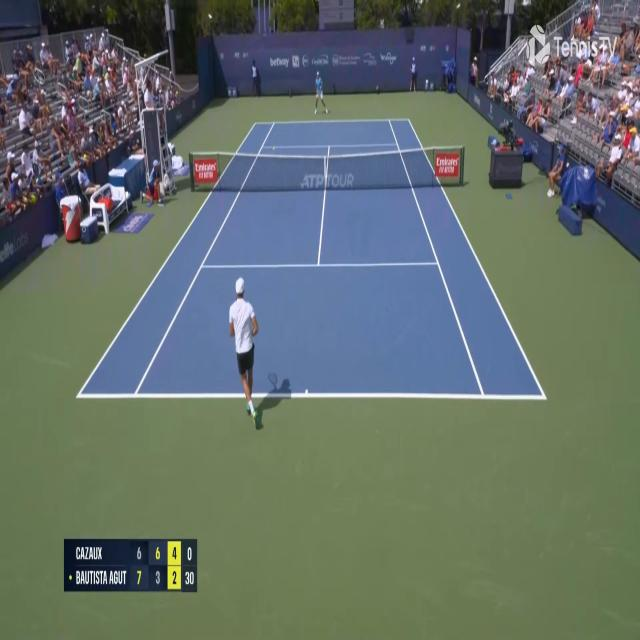tennis-player: (229, 275, 259, 422), (313, 69, 329, 116)
